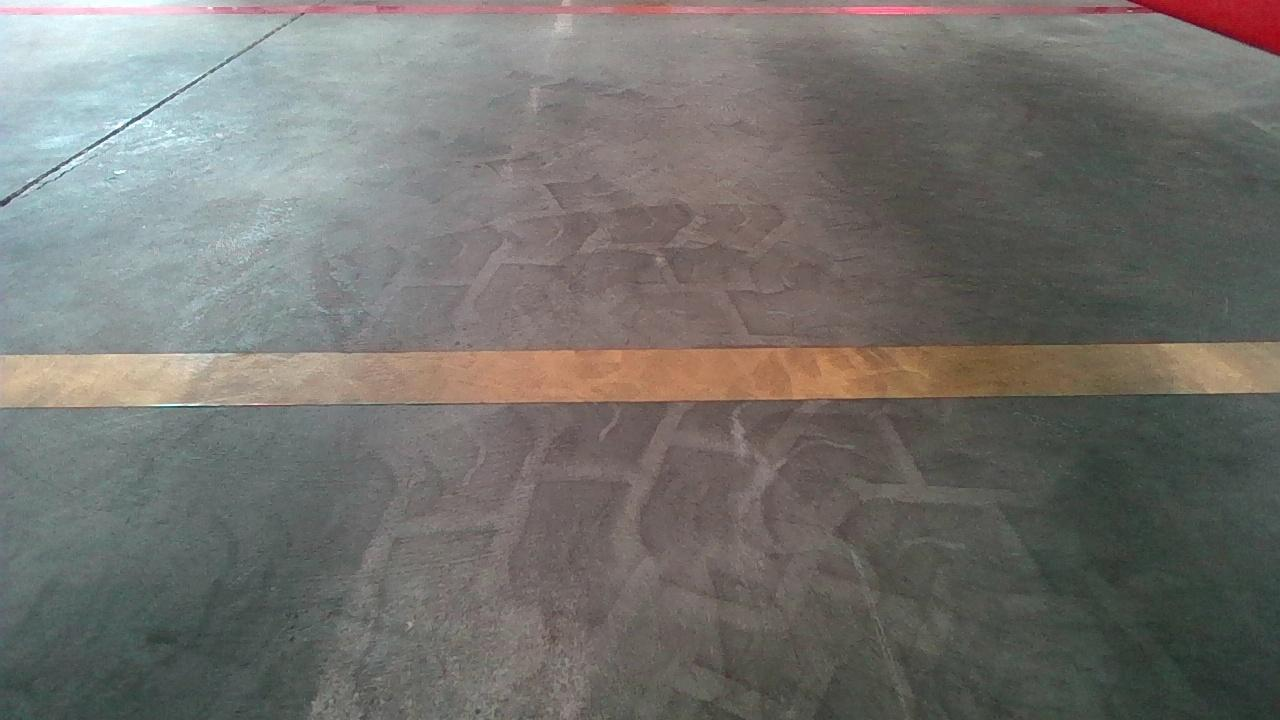red_line: (1, 2, 1161, 18)
yellow_line: (10, 337, 1280, 403)
